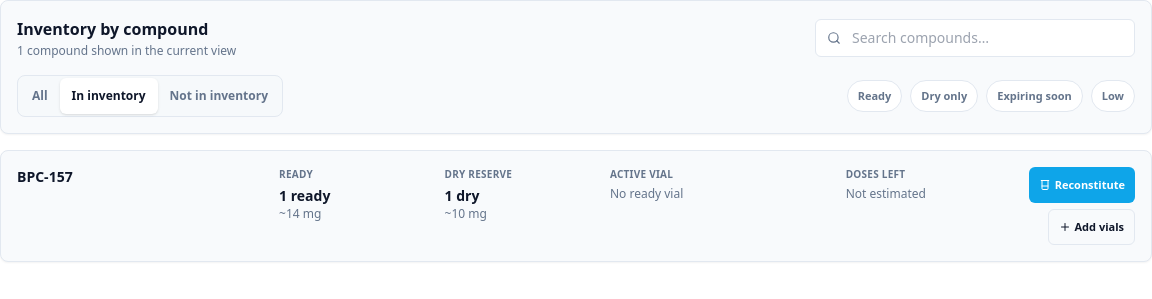
CompoundInventoryView › switches to "Not in inventory" and lists only compounds with no vials, excluding in-stock ones
Click the button "Not in inventory" at (219, 96), box [158,78,280,114]
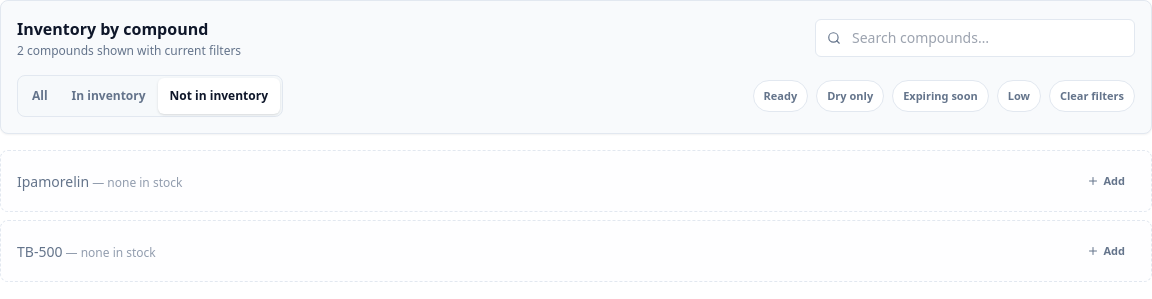
Expected: the text "TB-500" is shown, [17,242,62,261]
Expected: the text "Ipamorelin" is shown, [17,172,89,191]
Expected: the link "BPC-157" is gone
